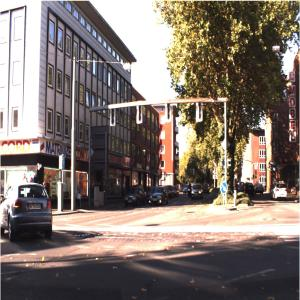keep right: (221, 182, 228, 195)
